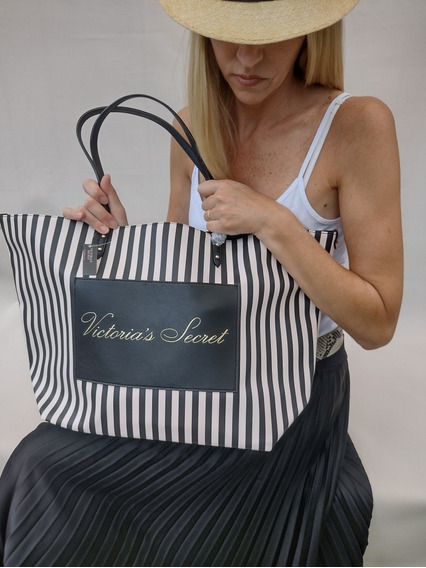cartera: (2, 92, 340, 452)
